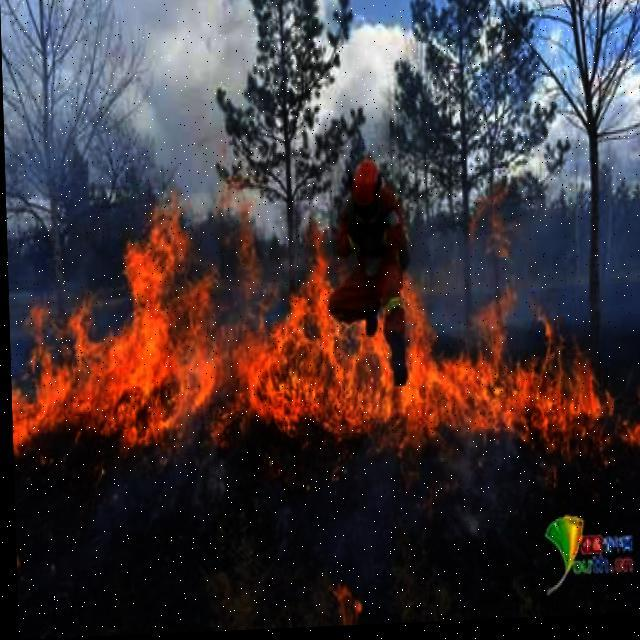Fire: (8, 175, 639, 503)
